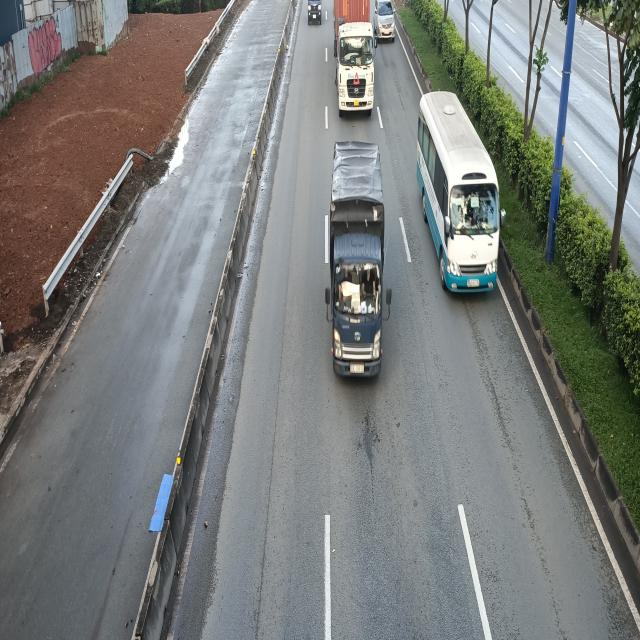car: (374, 0, 396, 41)
coach: (418, 87, 505, 293)
container: (333, 0, 377, 114)
truck: (323, 138, 392, 380)
